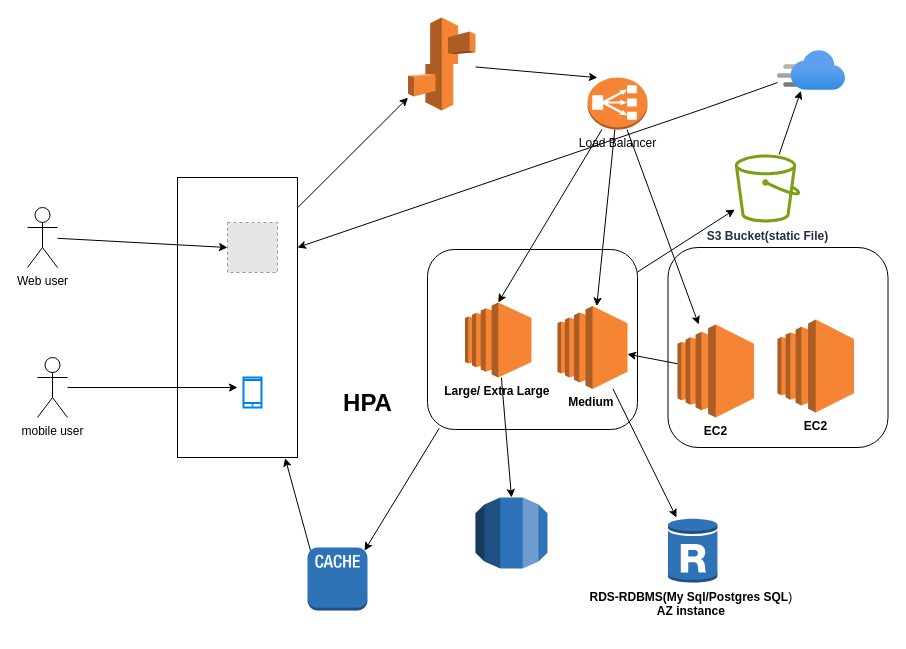
Some shapes in this 906 by 649 pixel diagram are drawn without their labels. Grey dashed boxes stand in for pictures. Here are the shapes that lost their labels. From the top down, the centre of each, then its label:
(441,63): URL/Domain Mapping
(811,70): CDN
(511,532): RDS No Sql(DynamoDB/MongoDB)
(337,578): Reddis/in memery DB
